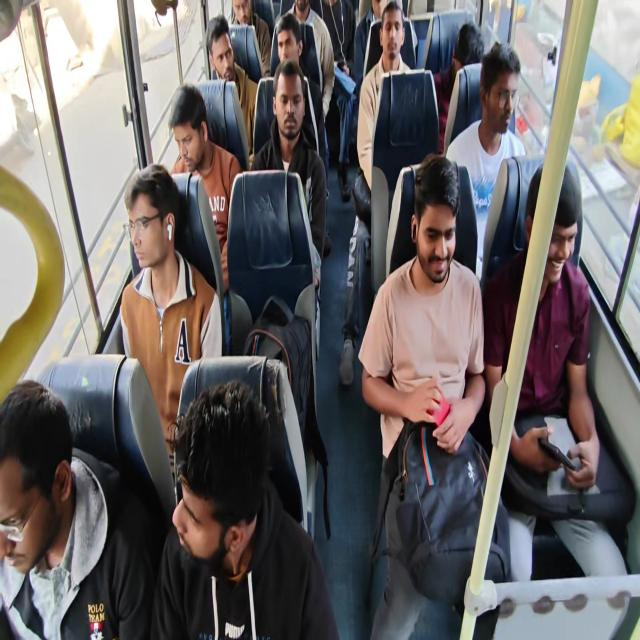person: (0, 376, 113, 639), (183, 370, 275, 640), (514, 164, 595, 349), (127, 154, 203, 328), (416, 168, 454, 279), (370, 0, 414, 91), (209, 13, 255, 98), (177, 78, 215, 177), (324, 5, 362, 97), (485, 77, 523, 168), (450, 12, 486, 102), (264, 64, 298, 144), (273, 14, 310, 66), (229, 0, 265, 44), (288, 0, 316, 39), (366, 0, 390, 28)
